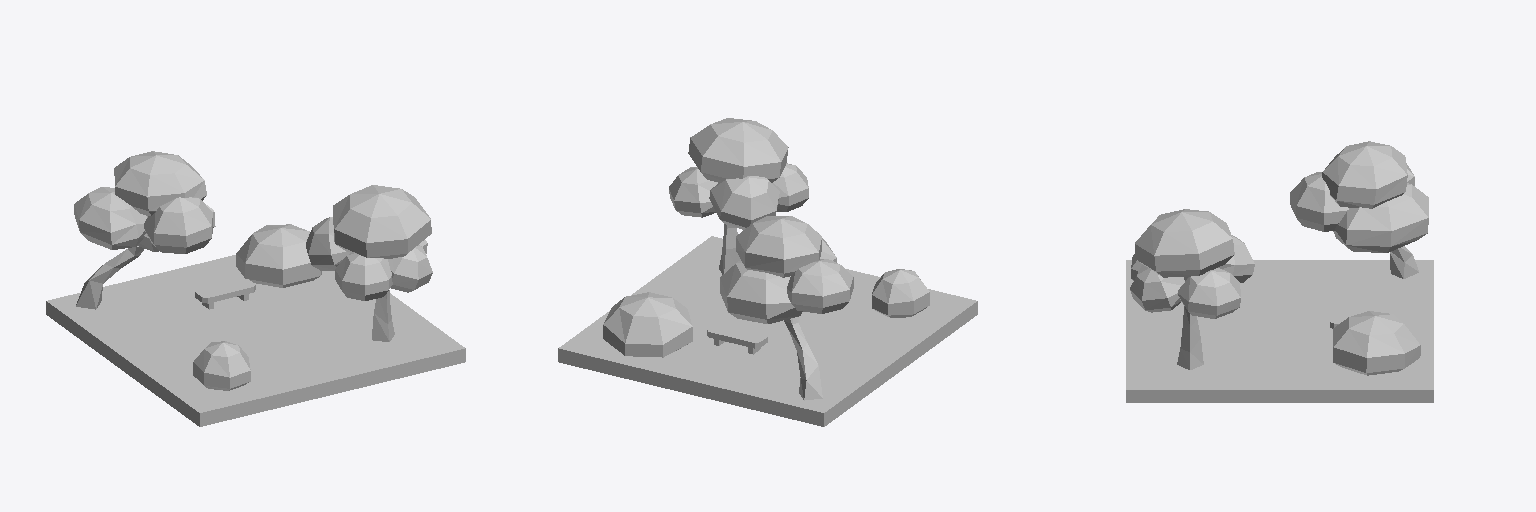
File: park_road_tsplit_decorated.obj
The picture shows the model from 3 angles: view 1: azimuth 30°, elevation 25°; view 2: azimuth 150°, elevation 25°; view 3: azimuth 270°, elevation 25°; orthographic projection.
Visible parts, largest first — view 1: park_road_tsplit_decorated_Cube.14223; view 2: park_road_tsplit_decorated_Cube.14223; view 3: park_road_tsplit_decorated_Cube.14223.
Part boxes in pixels (left/top/right/bottom): park_road_tsplit_decorated_Cube.14223: left=46, top=151, right=465, bottom=426; park_road_tsplit_decorated_Cube.14223: left=558, top=118, right=977, bottom=426; park_road_tsplit_decorated_Cube.14223: left=1126, top=141, right=1433, bottom=402.
Size of the model in its own units: 2 by 1.19 by 2.